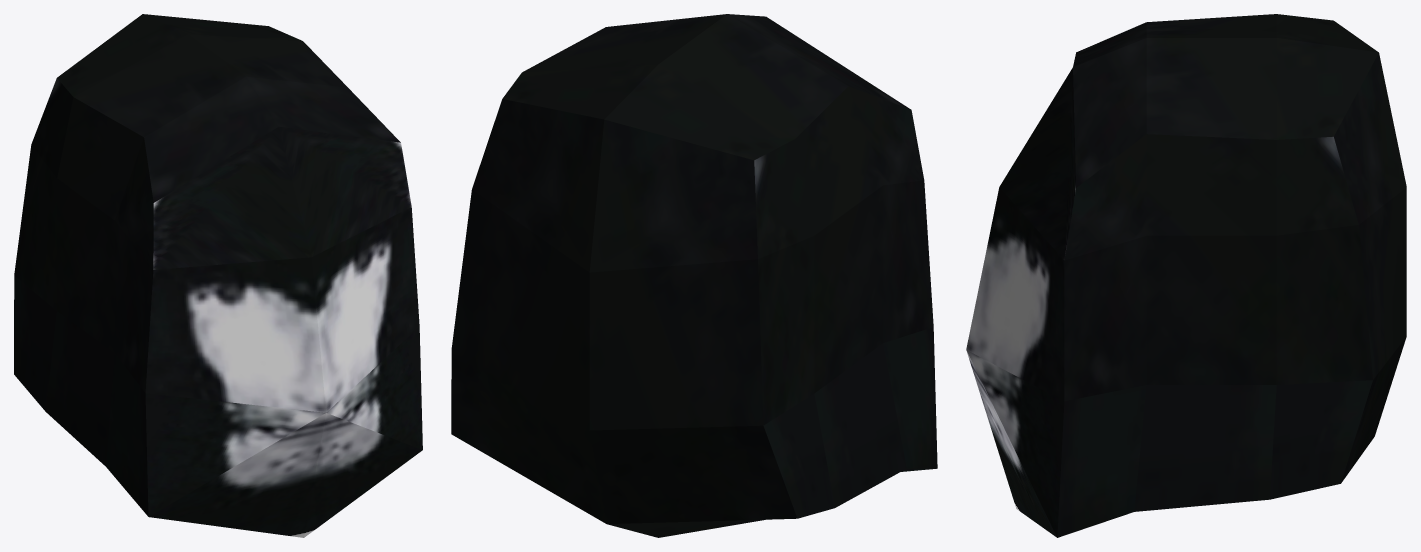
File: CreepyNPChead.fbx
3 renders of one model, left to right at view 1: azimuth 30°, elevation 25°; view 2: azimuth 150°, elevation 25°; view 3: azimuth 270°, elevation 25°, orthographic. The views are drawn at different scales.
Parts seen in each view (by area): view 1: Cube; view 2: Cube; view 3: Cube.
Part boxes in pixels (left/top/right/bottom): Cube: left=14, top=14, right=422, bottom=537; Cube: left=451, top=14, right=937, bottom=537; Cube: left=966, top=14, right=1406, bottom=537.
Size of the model in its own units: 153 by 210 by 178.
Materials: 1 (1 with a texture image).
